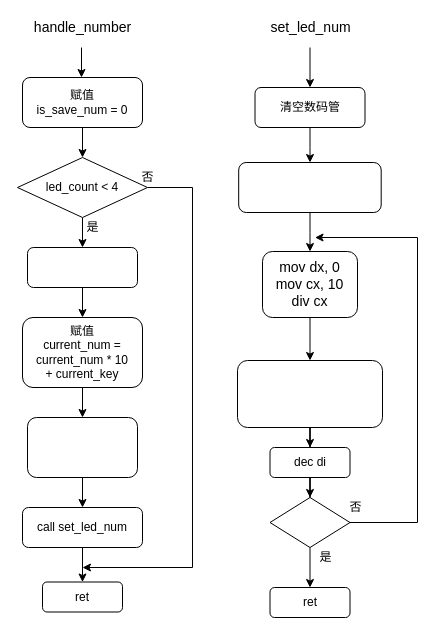
The diagram is 443 pixels wide and 635 high, and some of its shapes have lost their labels. Each missing label, with the centre of its shape:
ax == 0: the point at 309,522
inc led_count: the point at 82,267
mov di, 3 mov ax, display_num: the point at 309,187
mov dl, ledmap[dx] mov ledbuf[di], dl: the point at 309,394
赋值 display_num = current_num: the point at 82,447
